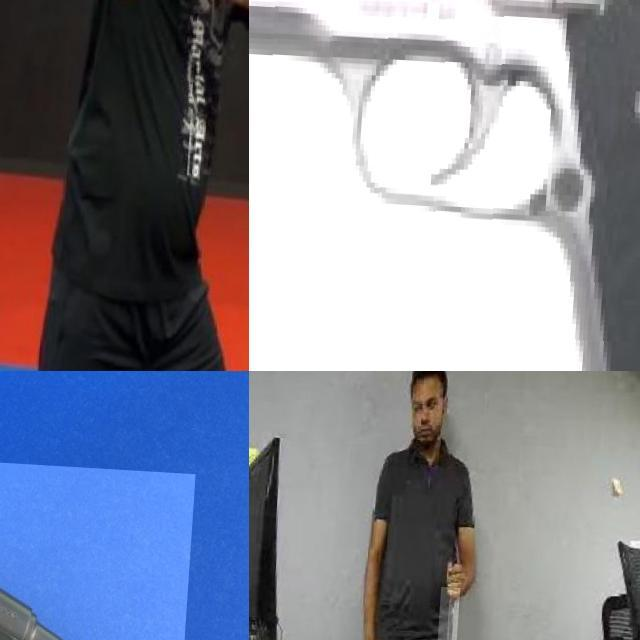-: (204, 0, 249, 40), (443, 583, 466, 640)
gun-knife-thesis - v11 Yolov5 augmented: (249, 0, 640, 371), (0, 441, 249, 640)
